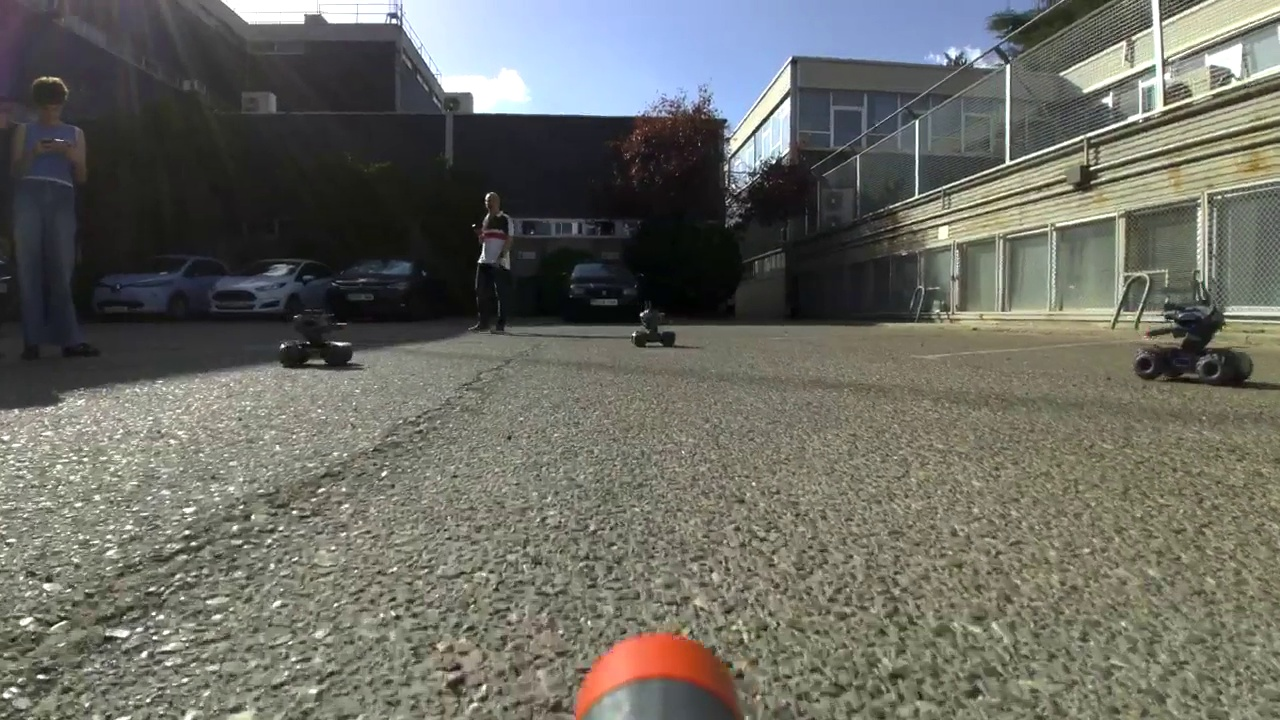robot: (1133, 264, 1254, 387), (276, 300, 359, 370), (631, 303, 675, 349)
